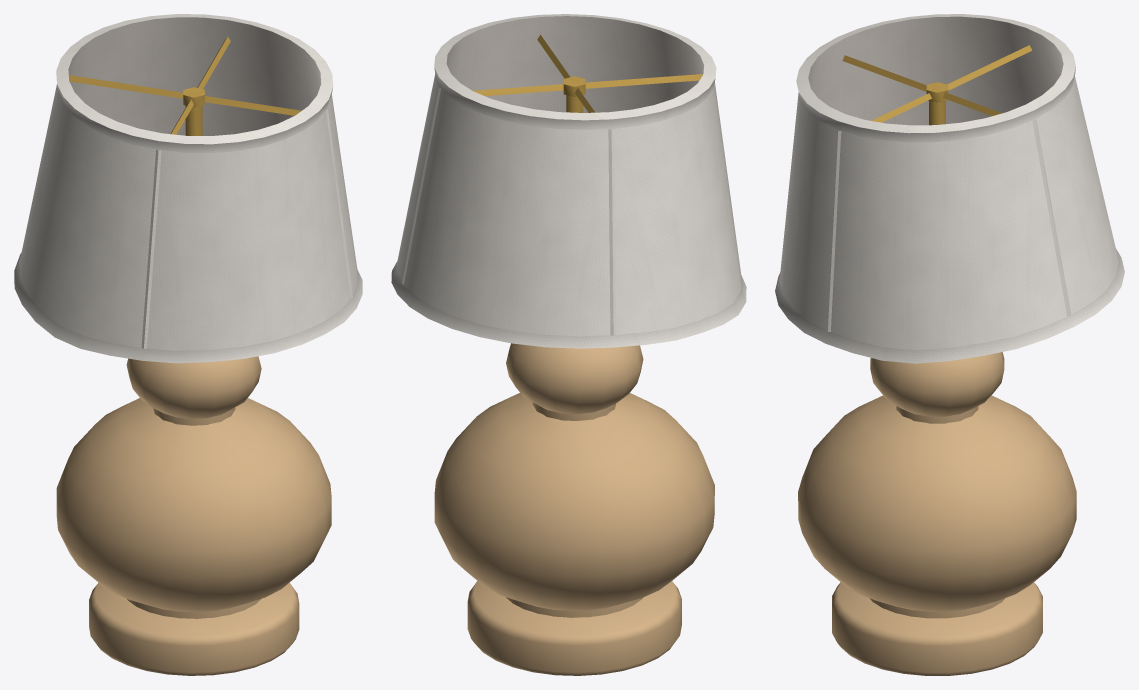
File: lamp.glb
The picture shows the model from 3 angles, left to right: view 1: azimuth 30°, elevation 25°; view 2: azimuth 150°, elevation 25°; view 3: azimuth 270°, elevation 25°; orthographic projection.
Parts seen in each view (by area): view 1: lamp-linen, lamp-ceramic, lamp-lining, lamp-brass; view 2: lamp-linen, lamp-ceramic, lamp-lining, lamp-brass; view 3: lamp-linen, lamp-ceramic, lamp-lining, lamp-brass.
Boxes of the visible parts, x1,y1,x2,y2 form: lamp-linen: (14, 14, 362, 363); lamp-ceramic: (56, 356, 331, 675); lamp-lining: (68, 17, 321, 135); lamp-brass: (69, 36, 301, 135); lamp-linen: (391, 14, 746, 348); lamp-ceramic: (434, 343, 714, 675); lamp-lining: (446, 16, 704, 112); lamp-brass: (473, 35, 702, 112); lamp-linen: (775, 14, 1124, 363); lamp-ceramic: (798, 352, 1076, 675); lamp-lining: (808, 16, 1063, 125); lamp-brass: (842, 45, 1032, 125).
Size of the model in its own units: 0.2547 by 0.4505 by 0.2512.
Materials: 4 (4 with a texture image).
